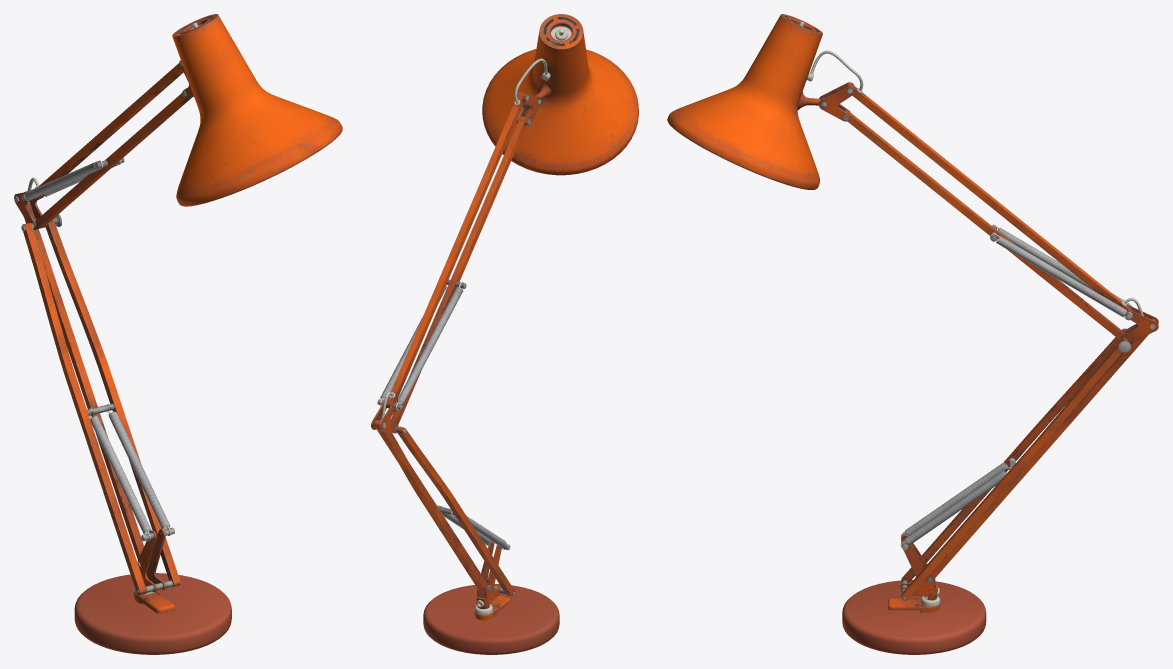
File: lamp.glb
3 renders of one model, left to right at view 1: azimuth 30°, elevation 25°; view 2: azimuth 150°, elevation 25°; view 3: azimuth 270°, elevation 25°, orthographic. The views are drawn at different scales.
Parts seen in each view (by area): view 1: lamp; view 2: lamp; view 3: lamp.
Part boxes in pixels (x1,y1,x2,y2): lamp: (14,14,342,654); lamp: (371,14,638,654); lamp: (667,14,1158,654).
Size of the model in its own units: 0.2084 by 0.8316 by 0.6138.
Materials: 2 (2 with a texture image).
